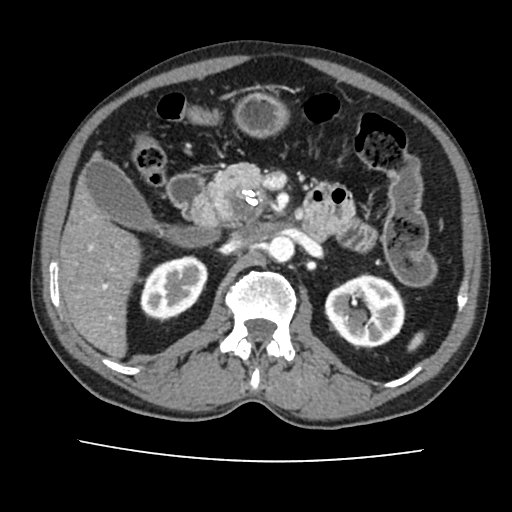aorta: (268, 234, 294, 261)
